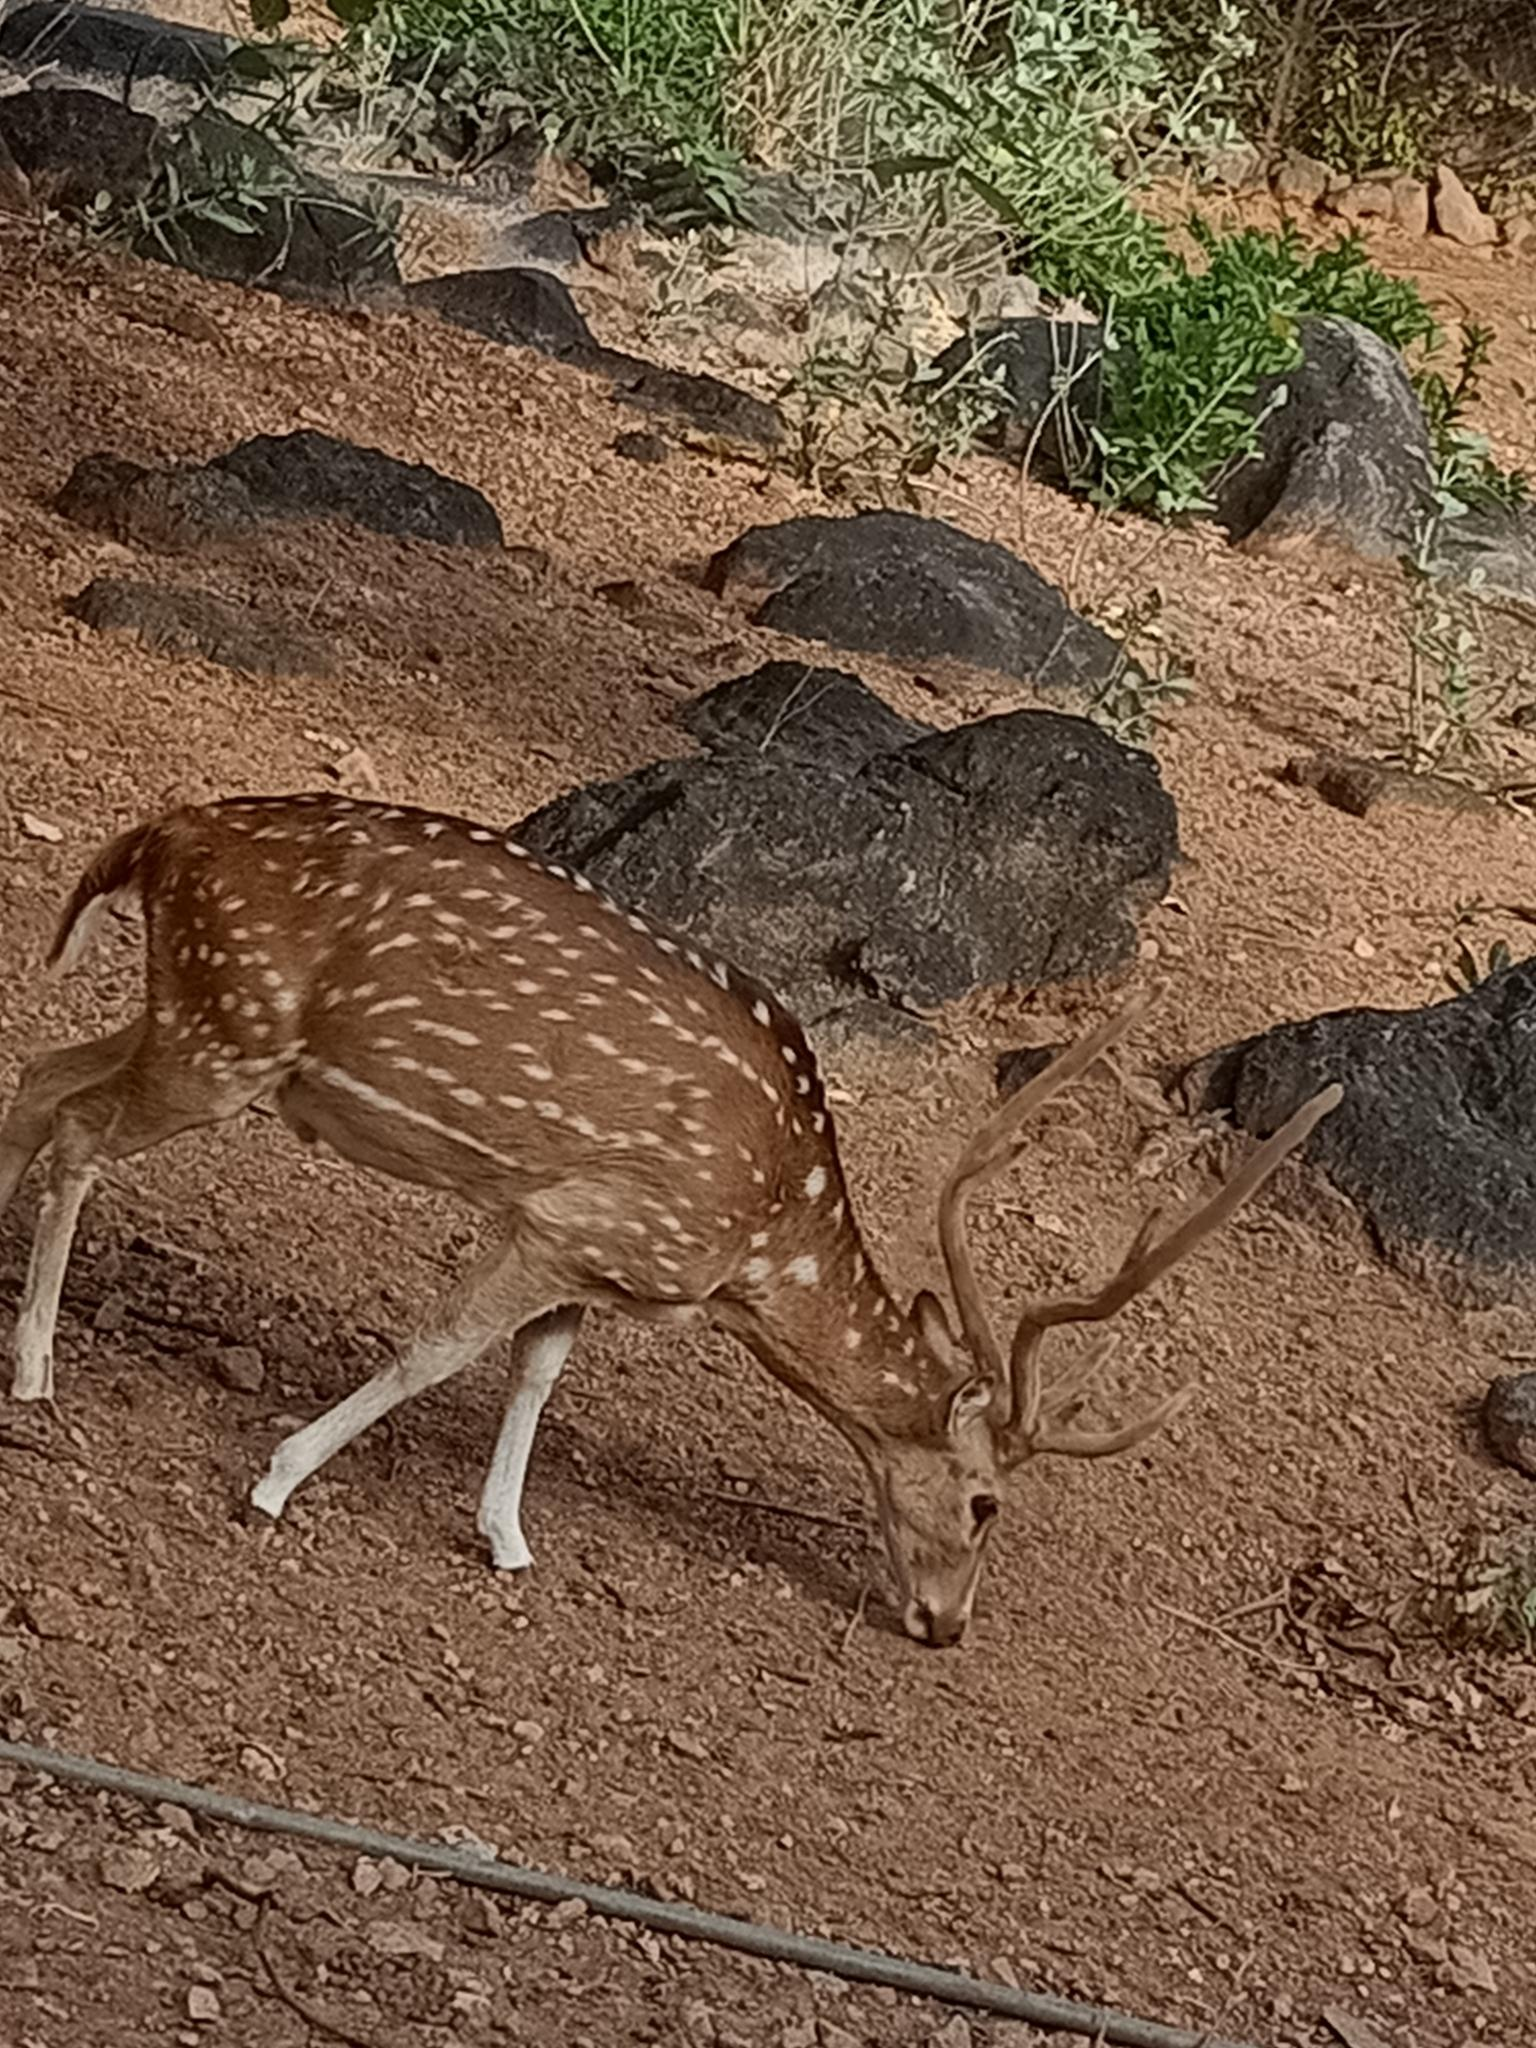Deer: (0, 792, 1341, 1646)
